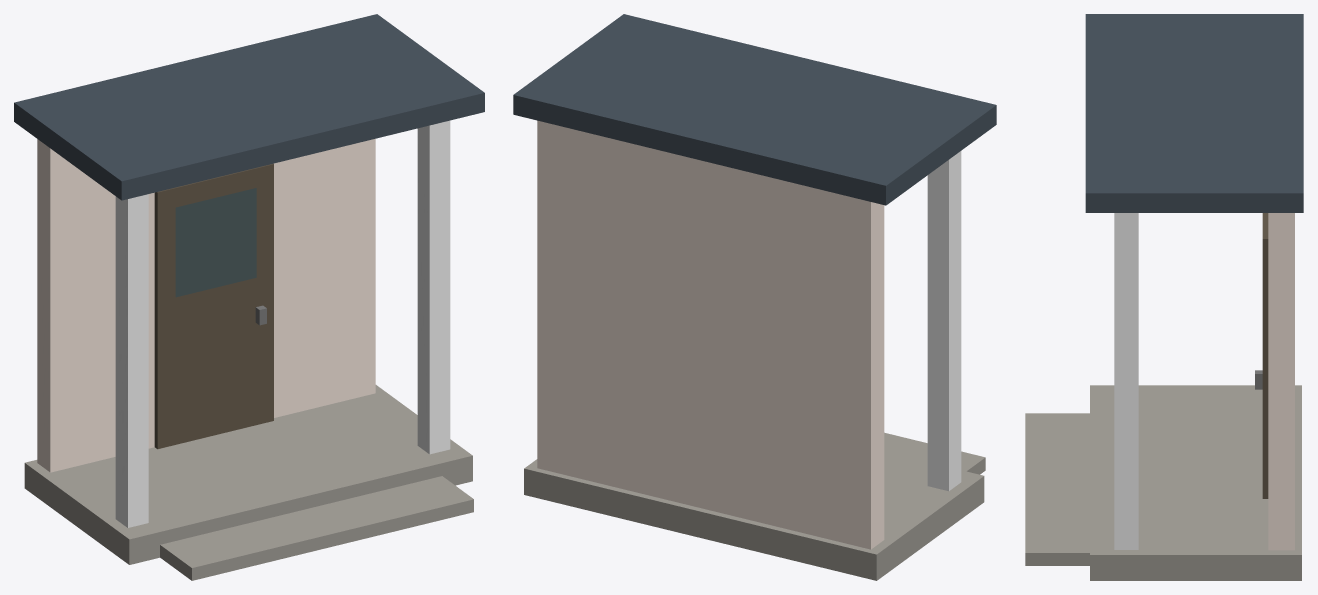
The model's file is entrance.fbx.
The picture shows the model from 3 angles, left to right: view 1: azimuth 30°, elevation 25°; view 2: azimuth 150°, elevation 25°; view 3: azimuth 270°, elevation 25°; orthographic projection. The views are drawn at different scales.
Parts seen in each view (by area): view 1: a2000/0/entrance; view 2: a2000/0/entrance; view 3: a2000/0/entrance.
Part boxes in pixels (x1,y1,x2,y2): a2000/0/entrance: [14, 14, 484, 580]; a2000/0/entrance: [513, 14, 996, 580]; a2000/0/entrance: [1025, 14, 1303, 580].
Size of the model in its own units: 2.96 by 3.02 by 1.94.
